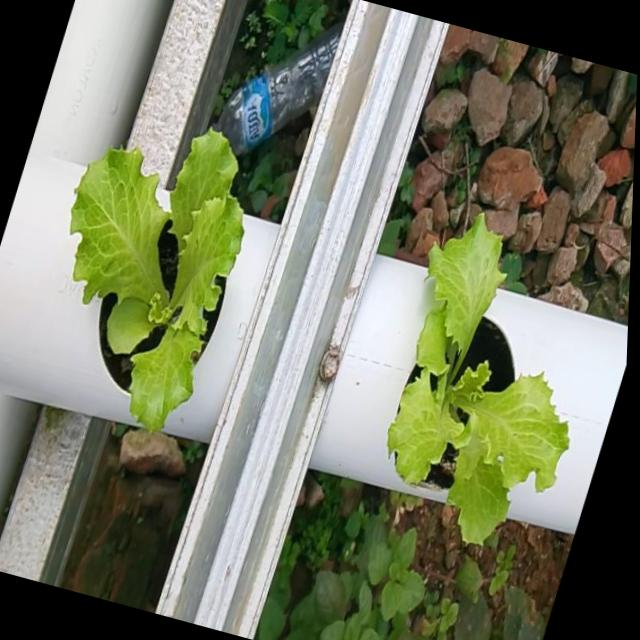Baby: (390, 223, 574, 560), (70, 136, 247, 447)
